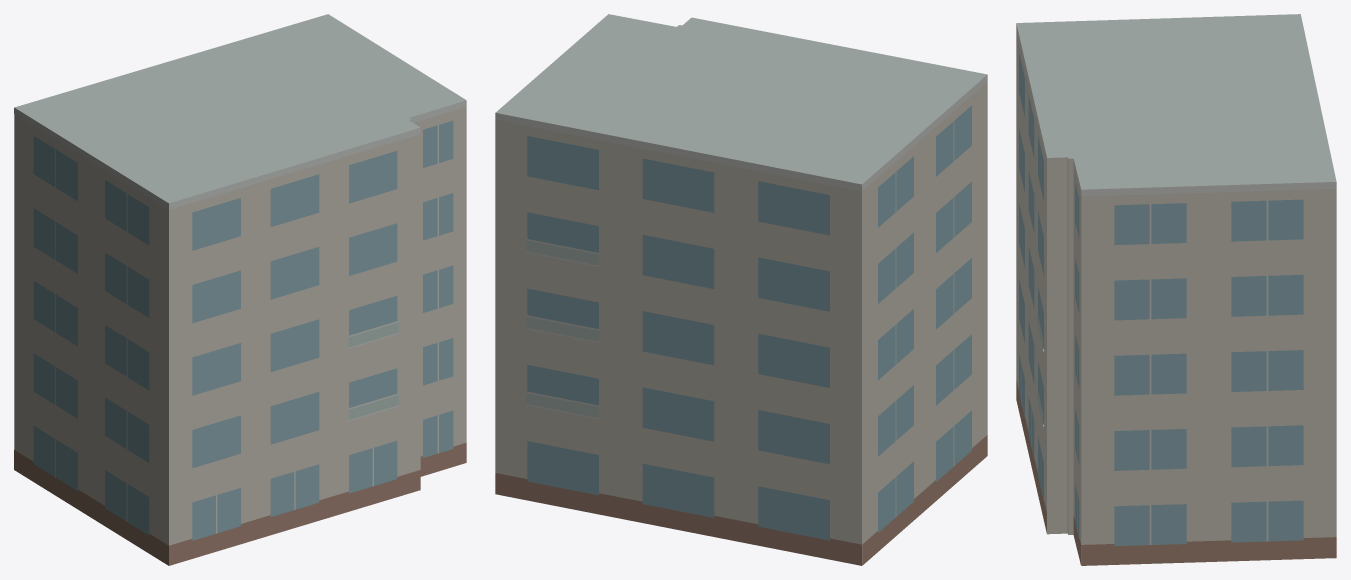
Rendered from survey-upis-32664206.glb.
3 views of the same model, side by side, from view 1: azimuth 30°, elevation 25°; view 2: azimuth 150°, elevation 25°; view 3: azimuth 270°, elevation 25° (orthographic). The views are drawn at different scales.
Parts seen in each view (by area): view 1: survey-upis-32664206.tmp; view 2: survey-upis-32664206.tmp; view 3: survey-upis-32664206.tmp.
Boxes of the visible parts, x1,y1,x2,y2 form: survey-upis-32664206.tmp: (14, 14, 466, 565); survey-upis-32664206.tmp: (495, 14, 987, 565); survey-upis-32664206.tmp: (1016, 14, 1336, 565).
Bounding box in the file's own units: 13.53 × 13.5 × 10.43.
